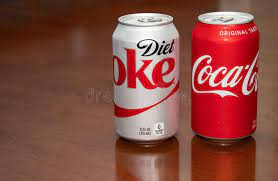can: (103, 9, 185, 154), (187, 7, 265, 149)
